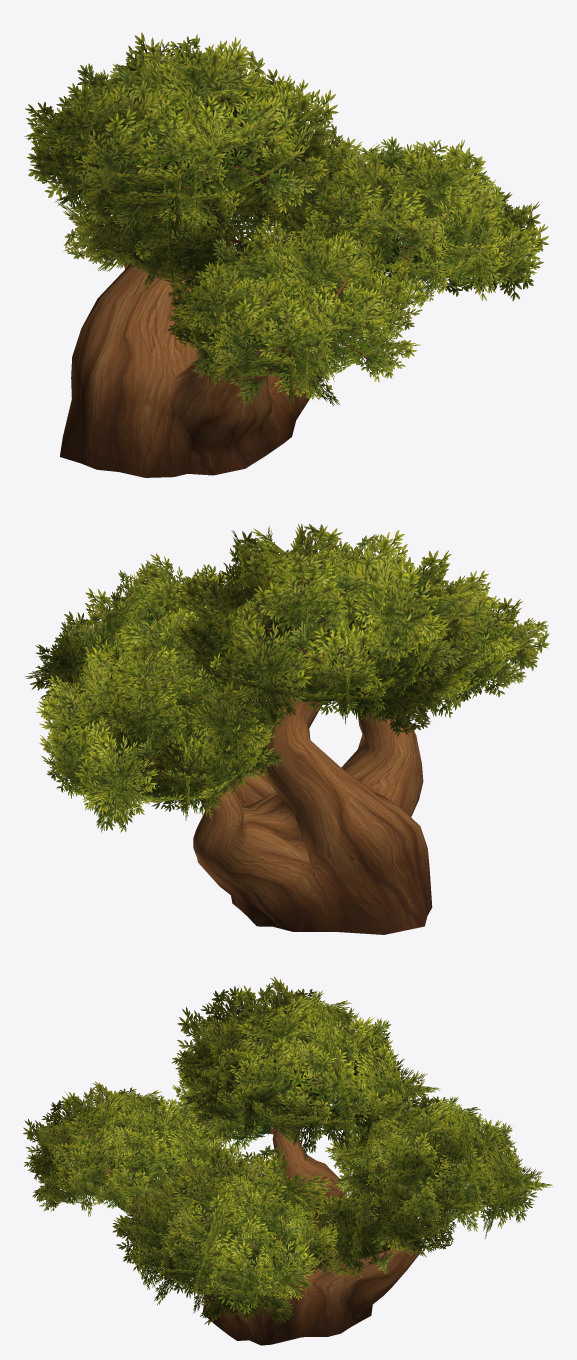
3 renders of one model, top to bottom at view 1: azimuth 30°, elevation 25°; view 2: azimuth 150°, elevation 25°; view 3: azimuth 270°, elevation 25°, orthographic. The views are drawn at different scales.
Size of the model in its own units: 43.73 by 34.06 by 53.24.
Materials: 2 (2 with a texture image).
